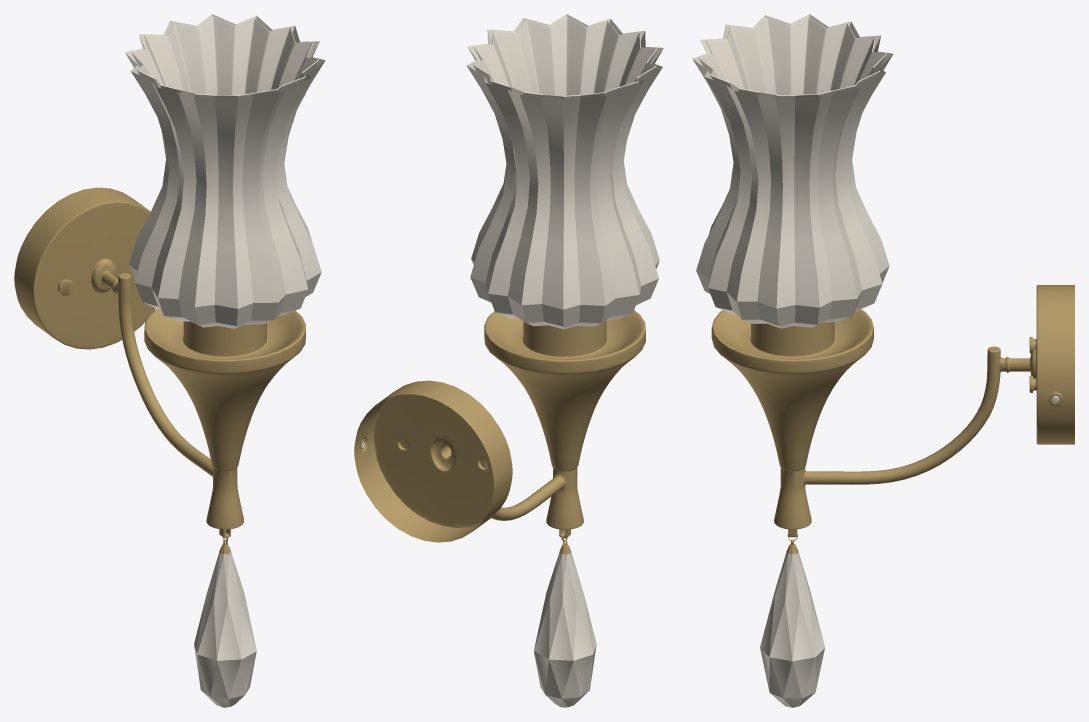
The model's file is wall-light.glb.
The picture shows the model from 3 angles, left to right: view 1: azimuth 30°, elevation 25°; view 2: azimuth 150°, elevation 25°; view 3: azimuth 270°, elevation 25°; orthographic projection.
Parts seen in each view (by area): view 1: emission_shape, lamp_body, shape, drop_diamond; view 2: emission_shape, lamp_body, shape, drop_diamond; view 3: emission_shape, lamp_body, shape, drop_diamond.
Part boxes in pixels (left/top/right/bottom): emission_shape: left=125, top=14, right=325, bottom=328; lamp_body: left=14, top=187, right=305, bottom=537; shape: left=131, top=17, right=318, bottom=98; drop_diamond: left=194, top=552, right=256, bottom=707; emission_shape: left=466, top=14, right=663, bottom=329; lamp_body: left=354, top=310, right=645, bottom=542; shape: left=473, top=17, right=657, bottom=99; drop_diamond: left=534, top=552, right=596, bottom=707; emission_shape: left=692, top=14, right=893, bottom=328; lamp_body: left=711, top=285, right=1074, bottom=537; shape: left=698, top=17, right=886, bottom=97; drop_diamond: left=760, top=552, right=824, bottom=707.
Bounding box in the file's own units: 0.1113 × 0.4022 × 0.214.
